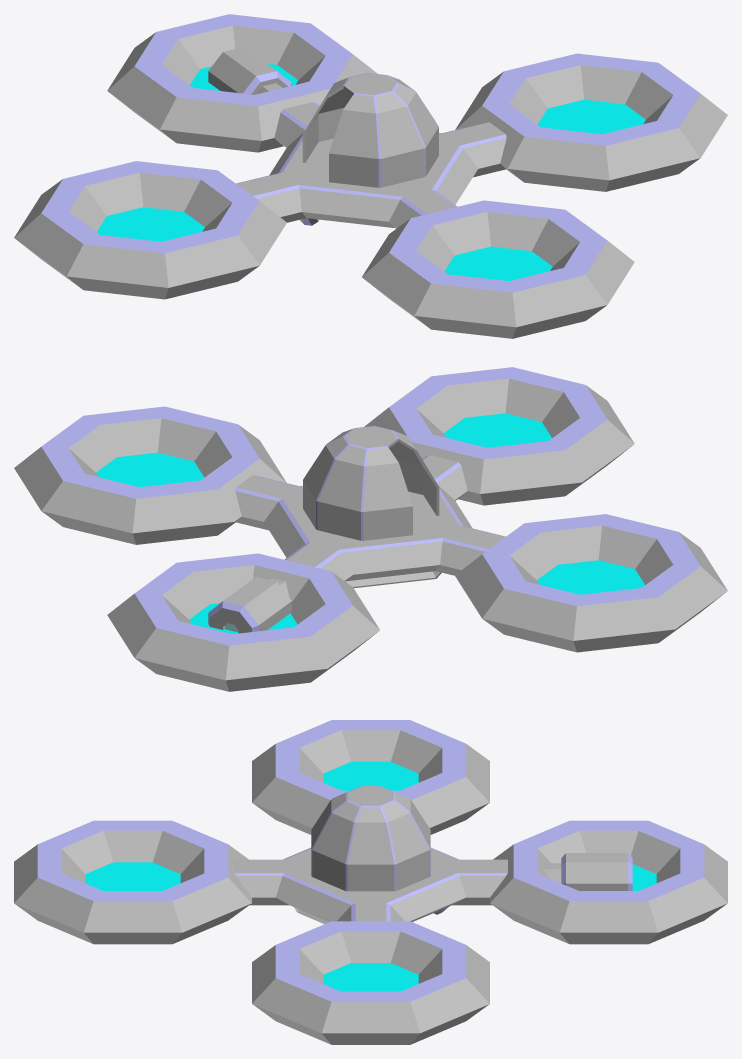
File: Drone_base_V1.fbx
3 views of the same model, one above another, from view 1: azimuth 30°, elevation 25°; view 2: azimuth 150°, elevation 25°; view 3: azimuth 270°, elevation 25° (orthographic). The views are drawn at different scales.
Parts seen in each view (by area): view 1: DroneBase_V1, Chamfer3, Cut-Extrude1; view 2: DroneBase_V1, Chamfer3, Cut-Extrude1; view 3: DroneBase_V1, Chamfer3, Cut-Extrude1.
Part boxes in pixels (x1=…): DroneBase_V1: x1=14, y1=14, x2=727, y2=338; Chamfer3: x1=302, y1=73, x2=438, y2=187; Cut-Extrude1: x1=208, y1=47, x2=313, y2=120; DroneBase_V1: x1=14, y1=367, x2=727, y2=691; Chamfer3: x1=303, y1=426, x2=439, y2=540; Cut-Extrude1: x1=208, y1=537, x2=345, y2=633; DroneBase_V1: x1=14, y1=720, x2=727, y2=1044; Chamfer3: x1=311, y1=786, x2=430, y2=891; Cut-Extrude1: x1=543, y1=853, x2=632, y2=890.
Bounding box in the file's own units: 300 × 54.27 × 300.
